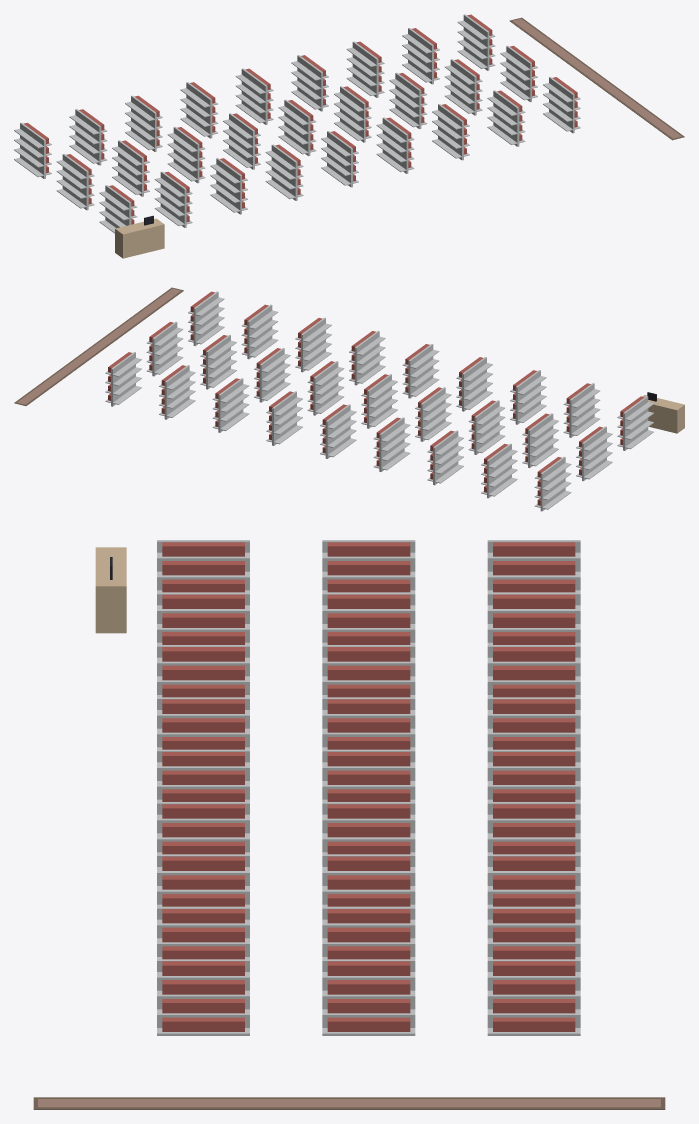
The model's file is fine-s0.glb.
3 views of the same model, one above another, from view 1: azimuth 30°, elevation 25°; view 2: azimuth 150°, elevation 25°; view 3: azimuth 270°, elevation 25° (orthographic). The views are drawn at different scales.
Parts seen in each view (by area): view 1: soft-s0, shop-counter.000, shelf.001, shelf.011, shelf.019, shelf.023, shelf.007, shelf.017, shelf.003, shelf.005, shelf.009, shelf.012 (+17 smaller); view 2: soft-s0, shelf.009, shelf.000, shelf.005, shelf.014, shelf.017, shelf.026, shelf.016, shelf.023, shelf.025, shelf.002, shelf.004 (+17 smaller); view 3: soft-s0, shelf.024, shelf.025, shelf.026, shelf.021, shelf.022, shelf.023, shelf.003, shelf.004, shelf.009, shelf.010, shelf.018 (+17 smaller).
Part boxes in pixels (x1,y1,x2,y2): soft-s0: [509, 17, 684, 140]; shop-counter.000: [115, 215, 164, 258]; shelf.001: [56, 154, 94, 210]; shelf.011: [265, 144, 303, 200]; shelf.019: [389, 72, 427, 129]; shelf.023: [487, 90, 525, 146]; shelf.007: [167, 126, 205, 183]; shelf.017: [376, 117, 414, 173]; shelf.003: [69, 109, 107, 165]; shelf.005: [154, 171, 192, 227]; shelf.009: [180, 82, 218, 138]; shelf.012: [235, 68, 273, 124]; soft-s0: [14, 287, 183, 405]; shelf.009: [373, 417, 410, 471]; shelf.000: [534, 456, 571, 511]; shelf.005: [563, 383, 600, 437]; shelf.014: [402, 344, 439, 398]; shelf.017: [349, 330, 385, 385]; shelf.026: [188, 291, 224, 346]; shelf.016: [307, 361, 344, 415]; shelf.023: [241, 304, 278, 359]; shelf.025: [146, 321, 183, 376]; shelf.002: [617, 396, 653, 450]; shelf.004: [522, 413, 558, 467]; soft-s0: [33, 1097, 665, 1109]; shelf.024: [487, 959, 580, 1035]; shelf.025: [322, 959, 415, 1035]; shelf.026: [157, 959, 249, 1035]; shelf.021: [487, 906, 580, 959]; shelf.022: [322, 906, 415, 959]; shelf.023: [157, 906, 249, 959]; shelf.003: [487, 592, 580, 644]; shelf.004: [322, 592, 415, 644]; shelf.009: [487, 697, 580, 749]; shelf.010: [322, 697, 415, 749]; shelf.018: [487, 854, 580, 906].
Size of the model in its own units: 23.63 by 1.6 by 12.22.
